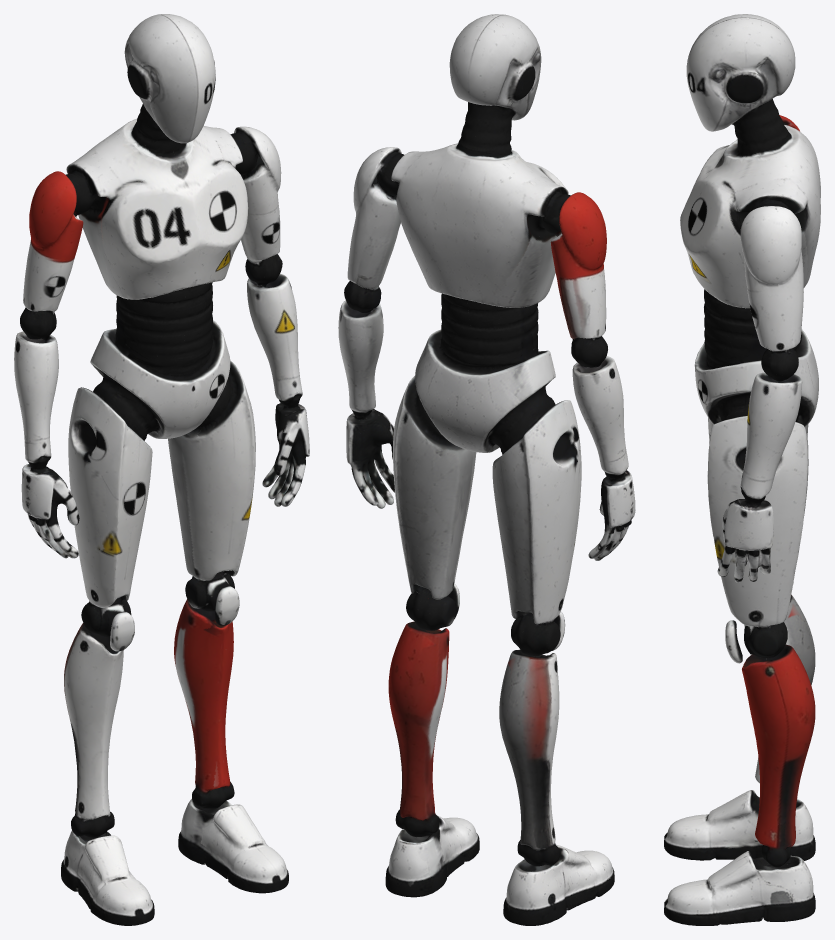
The model's file is Test_Unit_04.glb.
3 renders of one model, left to right at view 1: azimuth 30°, elevation 25°; view 2: azimuth 150°, elevation 25°; view 3: azimuth 270°, elevation 25°, orthographic.
Bounding box in the file's own units: 0.6436 × 1.9 × 0.3126.
Materials: 1 (1 with a texture image).
